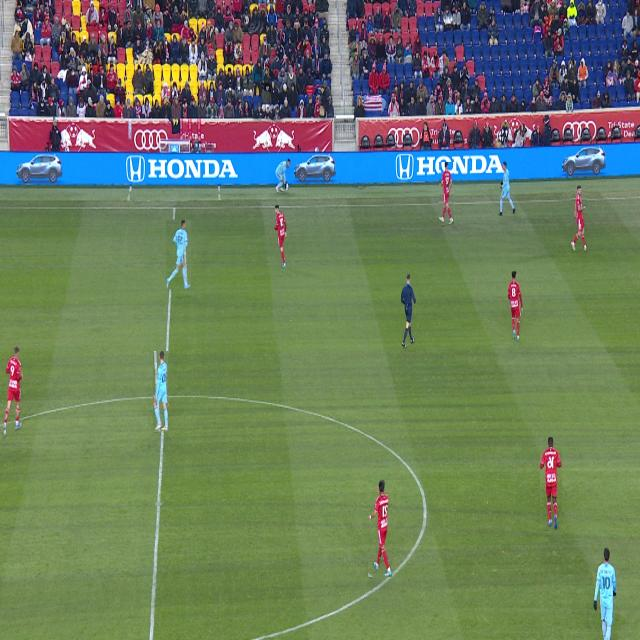player: (368, 481, 392, 577), (593, 548, 616, 640), (540, 437, 562, 530), (3, 346, 23, 437), (166, 220, 191, 289), (154, 352, 168, 431), (571, 186, 587, 251), (508, 272, 523, 340), (439, 162, 454, 225), (498, 162, 515, 216), (274, 205, 287, 268)
referee: (401, 274, 416, 348)
